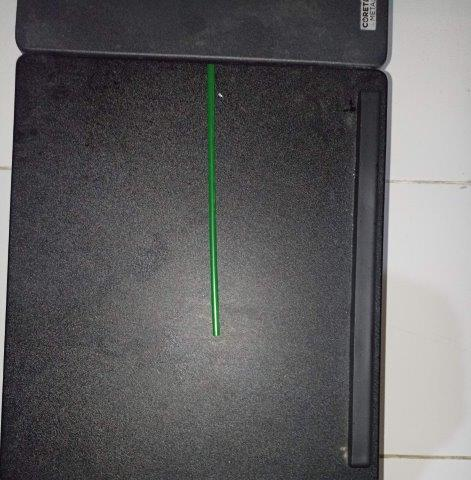sedotan: (207, 63, 221, 335)
